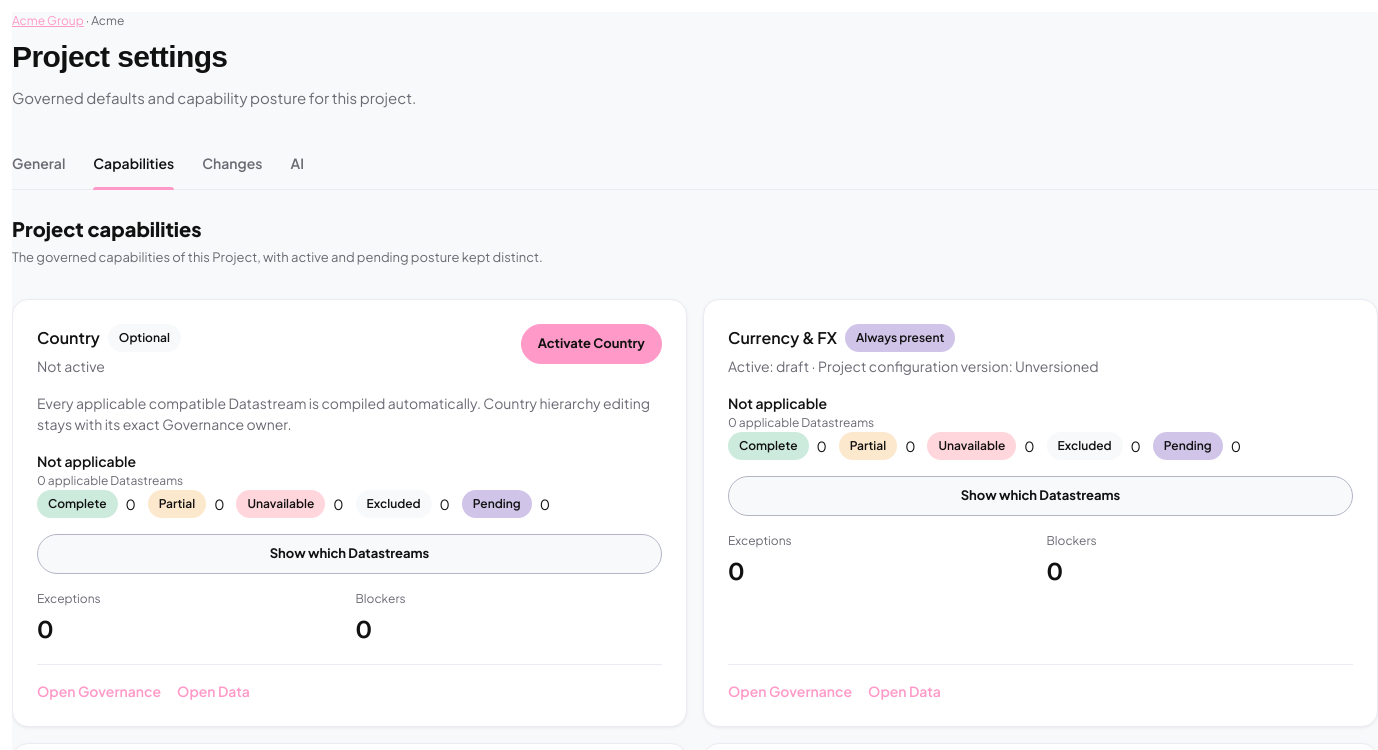
Scenario: a list that failed to load is not an empty one
Click the 2nd button "Show which Datastreams". click: (350, 554)
box: [37, 534, 662, 574]
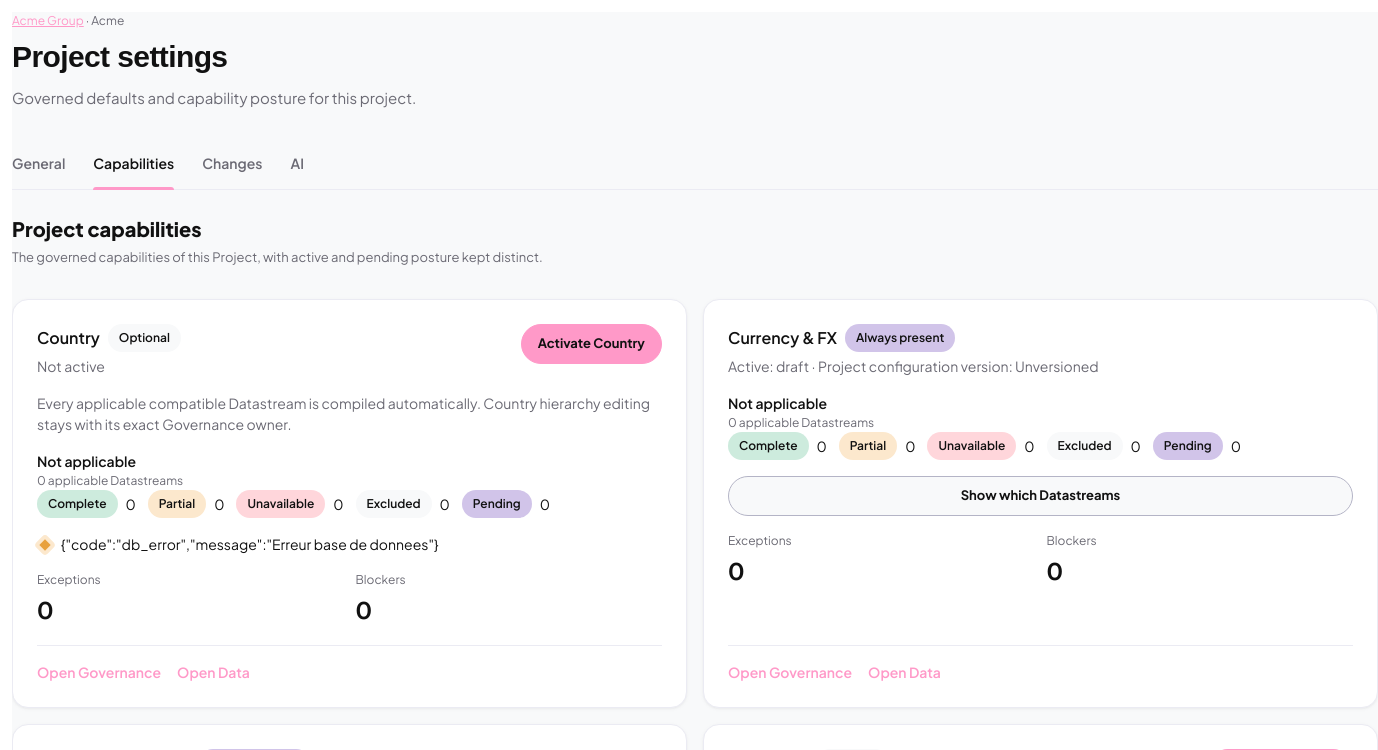
Result: the text "{\"code\":\"db_error\",\"message\":\"Erreur base de donnees\"}" is shown at [61, 534, 438, 555]
